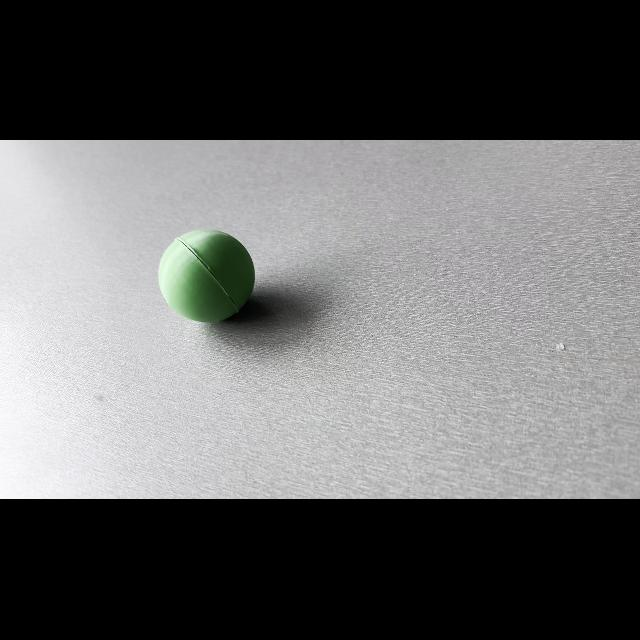objects: (154, 218, 266, 326)
